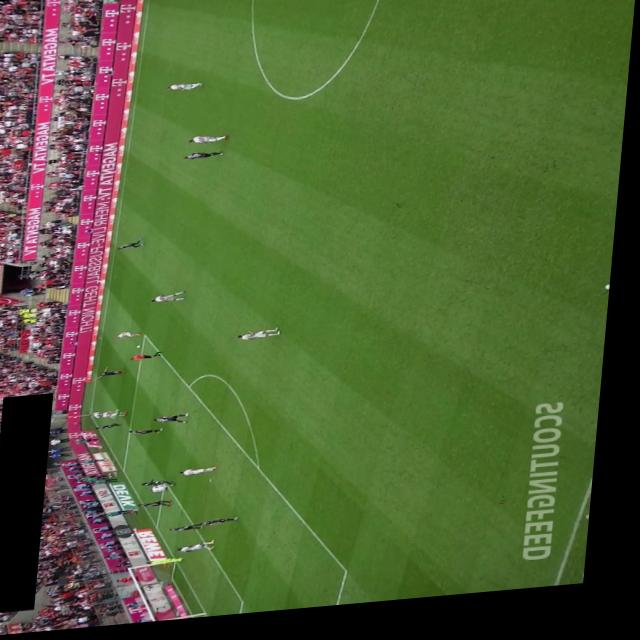goalkeeper: (156, 560, 195, 568)
player: (243, 332, 287, 345), (187, 544, 226, 557), (191, 137, 232, 149), (161, 416, 197, 429), (156, 294, 192, 307), (103, 367, 134, 381), (188, 469, 226, 480), (187, 154, 227, 164), (146, 502, 182, 512), (167, 85, 206, 94), (158, 484, 187, 496), (211, 521, 249, 530), (122, 241, 150, 252), (150, 480, 179, 490), (98, 411, 130, 420), (121, 332, 149, 342), (179, 527, 213, 535), (137, 430, 171, 438), (109, 412, 135, 421), (105, 425, 130, 431)
referee: (137, 354, 169, 363)
